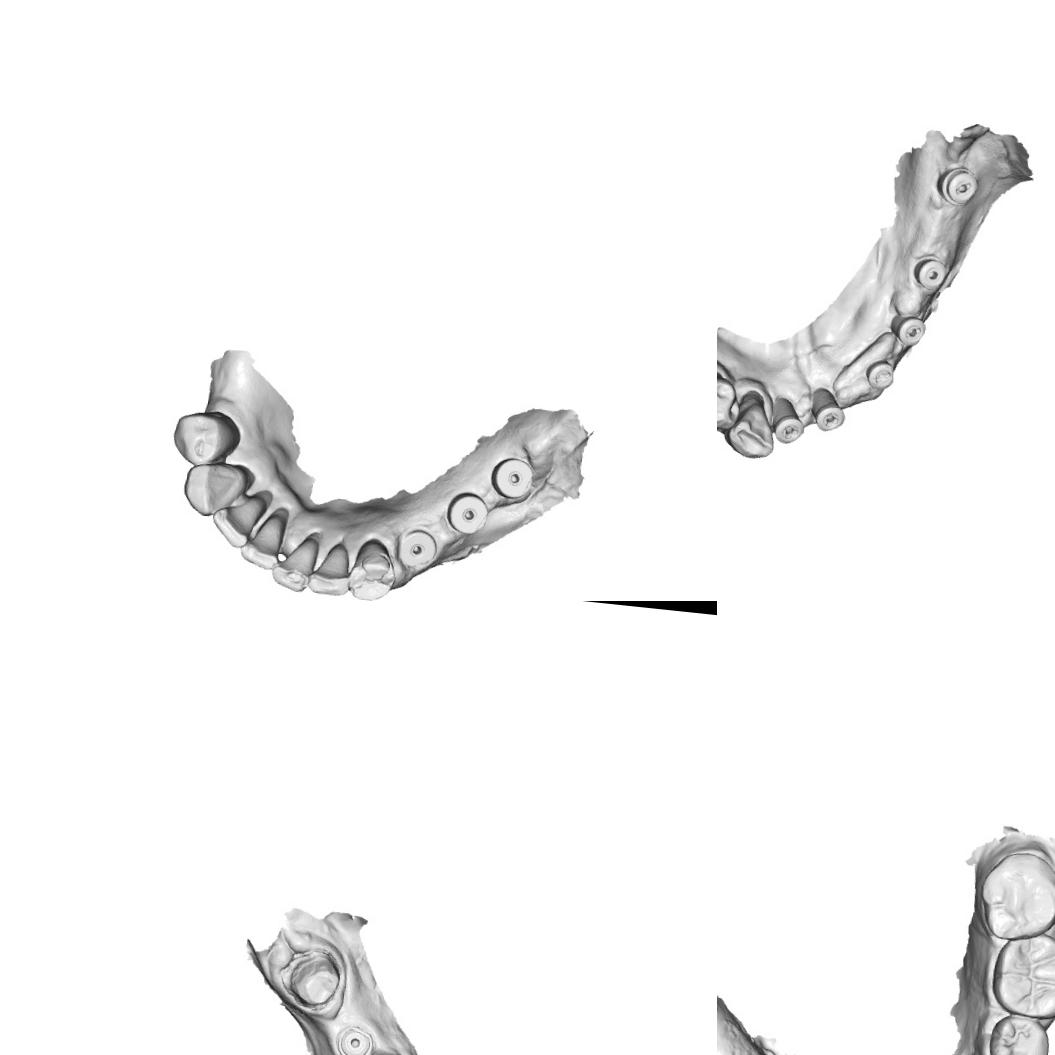canine: (176, 460, 253, 523), (343, 534, 399, 601)
crown: (280, 944, 349, 1012)
implant: (487, 451, 538, 505), (444, 487, 494, 540), (393, 522, 442, 573), (331, 1015, 380, 1055), (910, 256, 950, 293)
implant_minus: (934, 163, 982, 209), (887, 311, 928, 350), (863, 358, 900, 392)
implant_plus: (765, 392, 813, 452), (807, 385, 848, 436)
incisor: (235, 505, 292, 576), (721, 398, 779, 464), (305, 531, 359, 601), (207, 491, 265, 553), (263, 535, 319, 596)
molar: (976, 847, 1055, 946), (986, 928, 1055, 1022)
premolar: (168, 404, 246, 470), (982, 1009, 1055, 1055), (717, 369, 744, 434)
